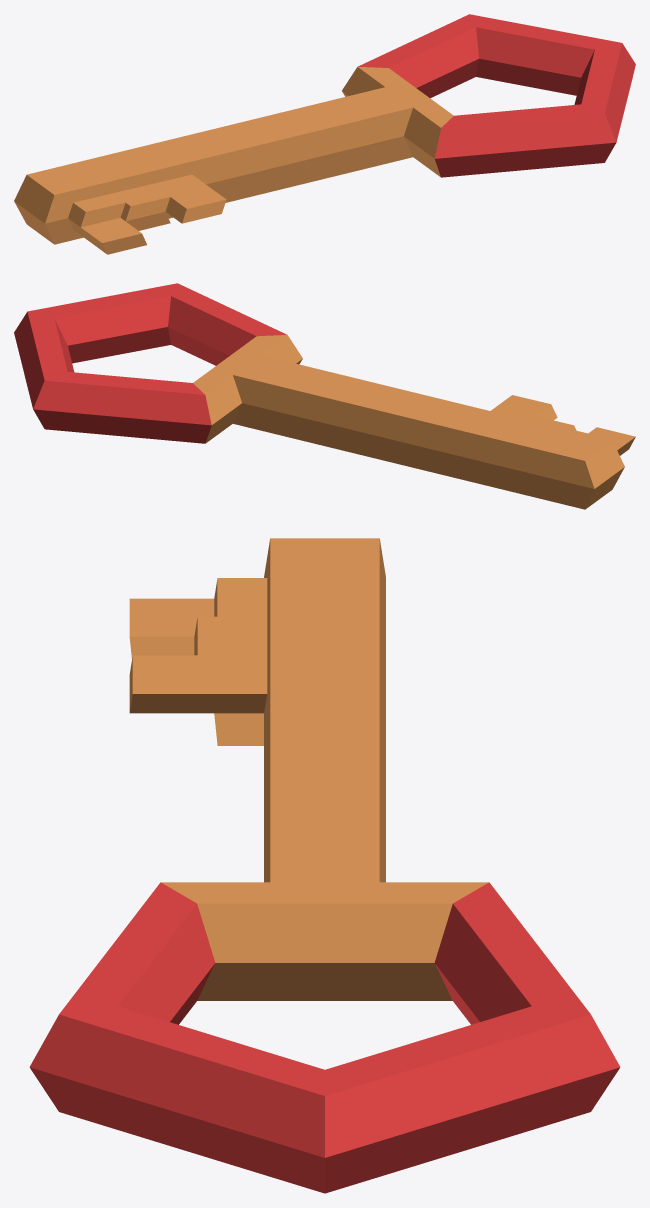
The model's file is Red_Key.fbx.
The picture shows the model from 3 angles, top to bottom: view 1: azimuth 30°, elevation 25°; view 2: azimuth 150°, elevation 25°; view 3: azimuth 270°, elevation 25°; orthographic projection. The views are drawn at different scales.
Visible parts, largest first — view 1: Key; view 2: Key; view 3: Key.
Boxes of the visible parts, x1,y1,x2,y2 form: Key: [14, 14, 635, 254]; Key: [14, 283, 635, 509]; Key: [29, 538, 620, 1193].
Bounding box in the file's own units: 31.49 × 2.46 × 13.53.
